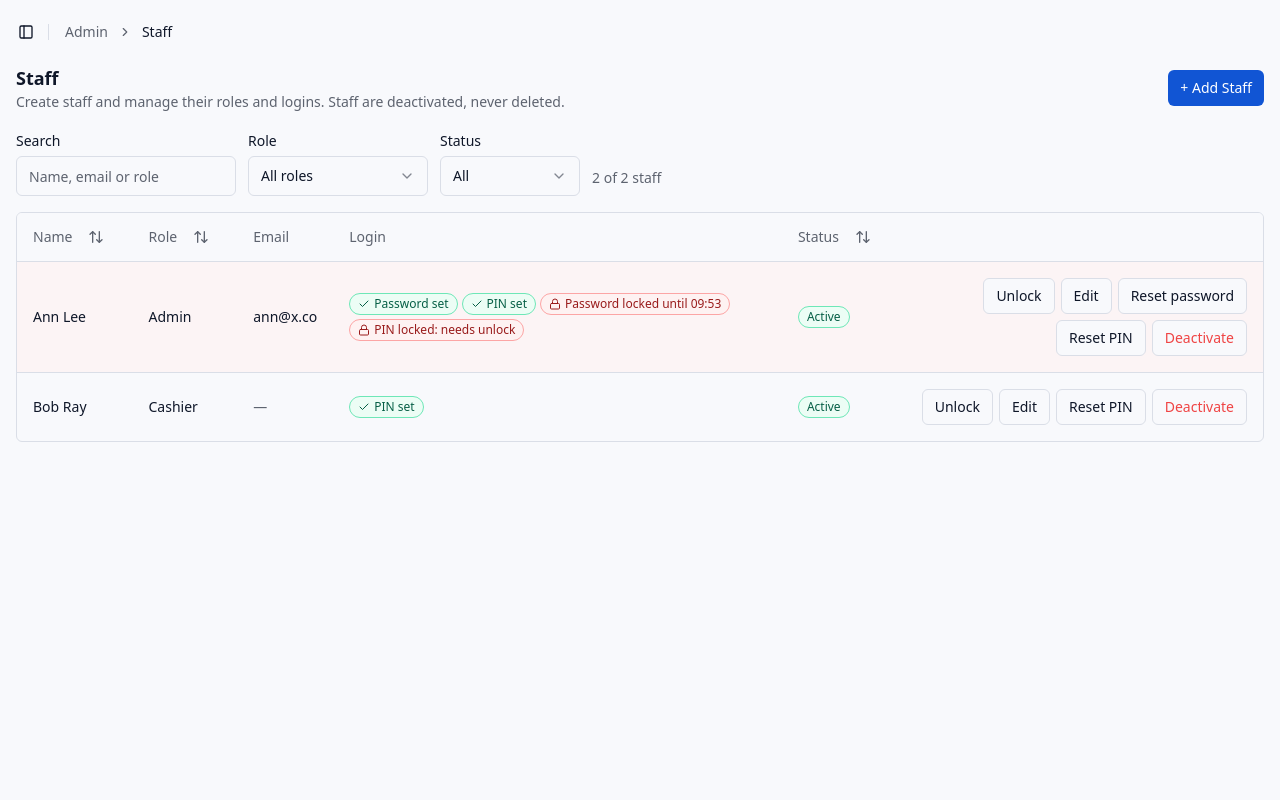
Test case: Staff page locks (backend without `blocks`) › clears a short block for someone with no listed lock
This screenshot has width=1280, height=800.
Expected: the text "Bob Ray" is shown, x1=33 y1=396 x2=86 y2=416
Click the button "Unlock" in the row of "Bob Ray".
click(957, 406)  # box x1=922 y1=388 x2=993 y2=424
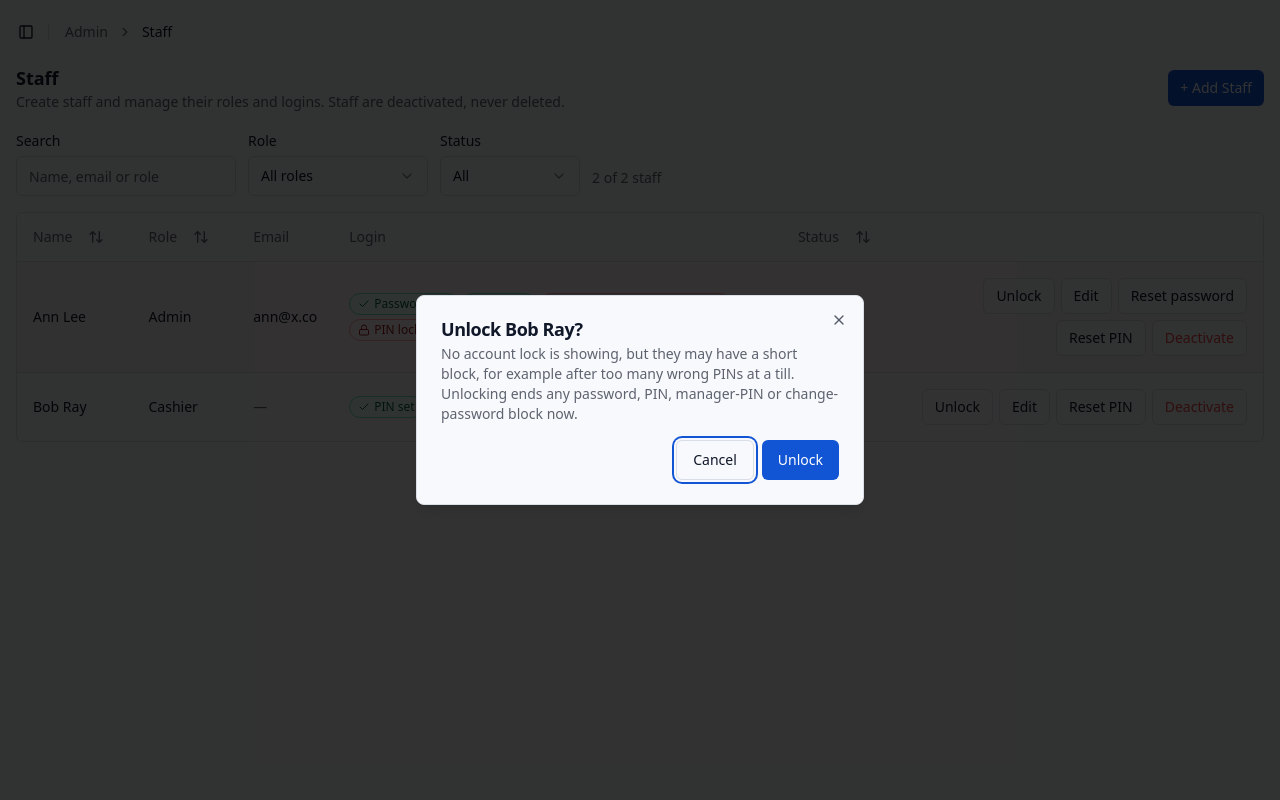
Result: the text "No account lock is showing, but they may have a short block" is shown at x1=441 y1=344 x2=838 y2=423
Click the button "Unlock".
click(800, 460)  # box x1=762 y1=440 x2=839 y2=480
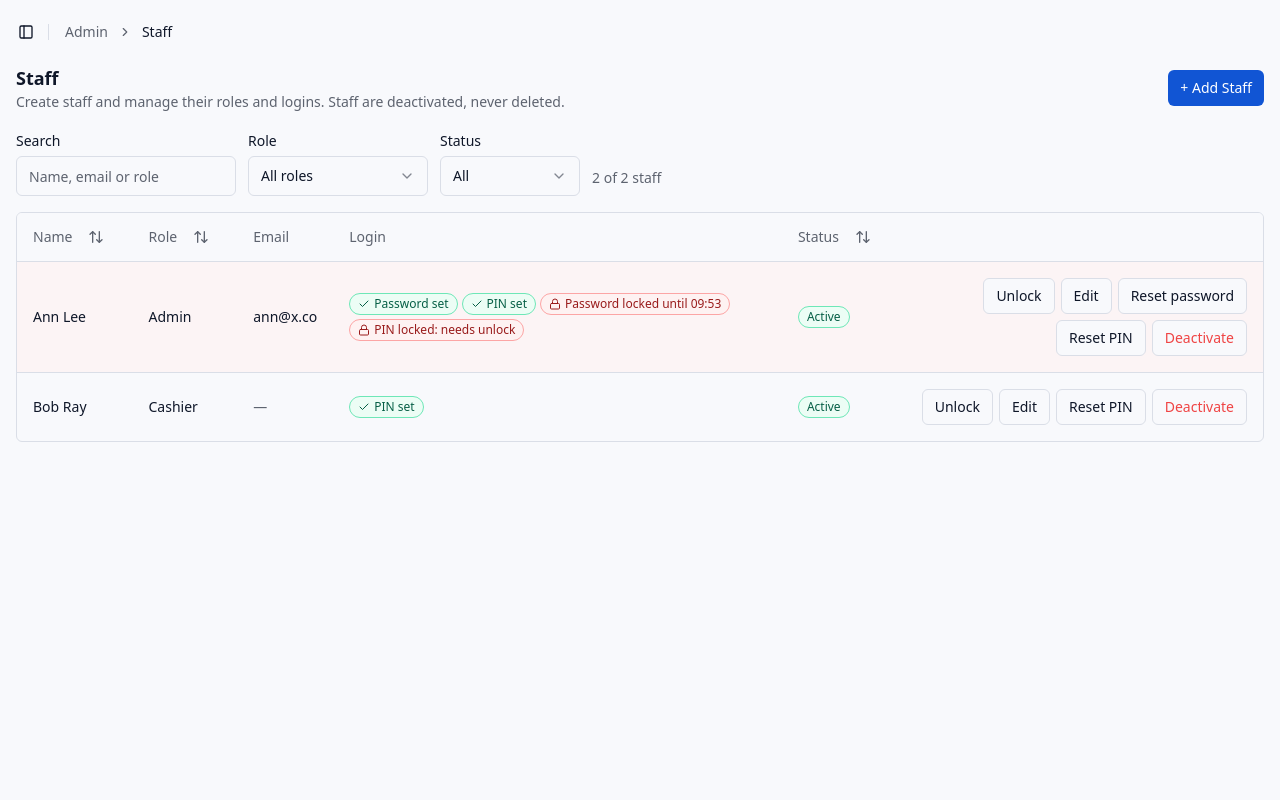
Result: the dialog is gone
